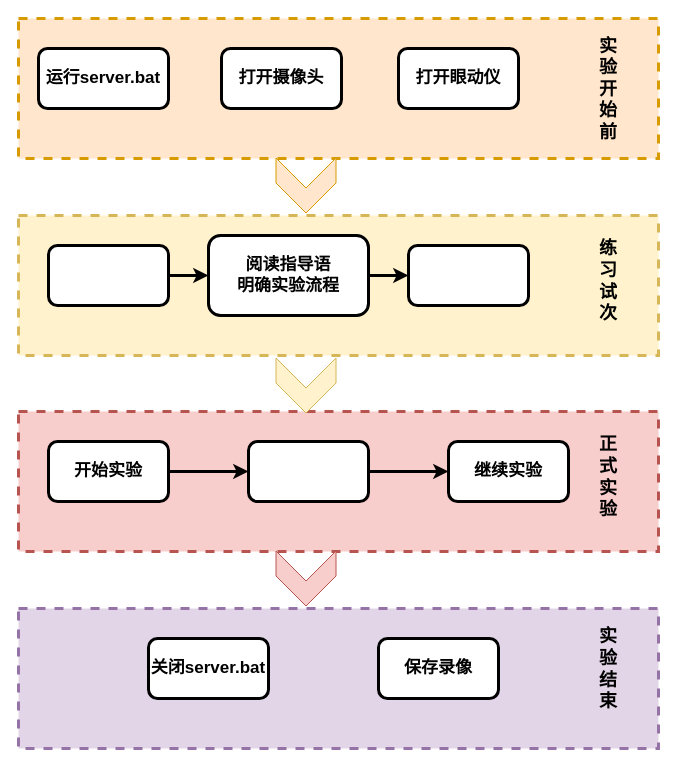
The diagram is 677 pixels wide and 767 high, and some of its shapes have lost their labels. Here are the shapes that lost their labels. From the top down, the box of each, then its label:
(46, 244, 170, 306): 开始录像
(406, 244, 530, 306): 打开练习程序
(246, 440, 370, 502): 中途休息
